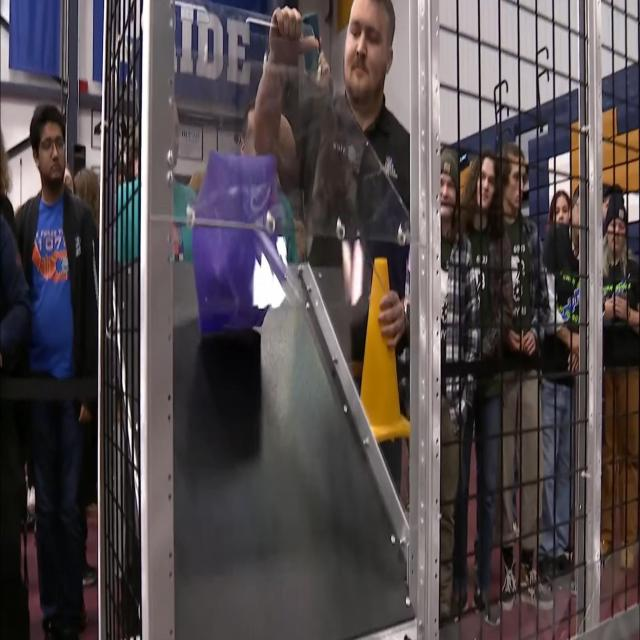frc_cone: (346, 262, 410, 441)
frc_cube: (198, 149, 278, 321)
